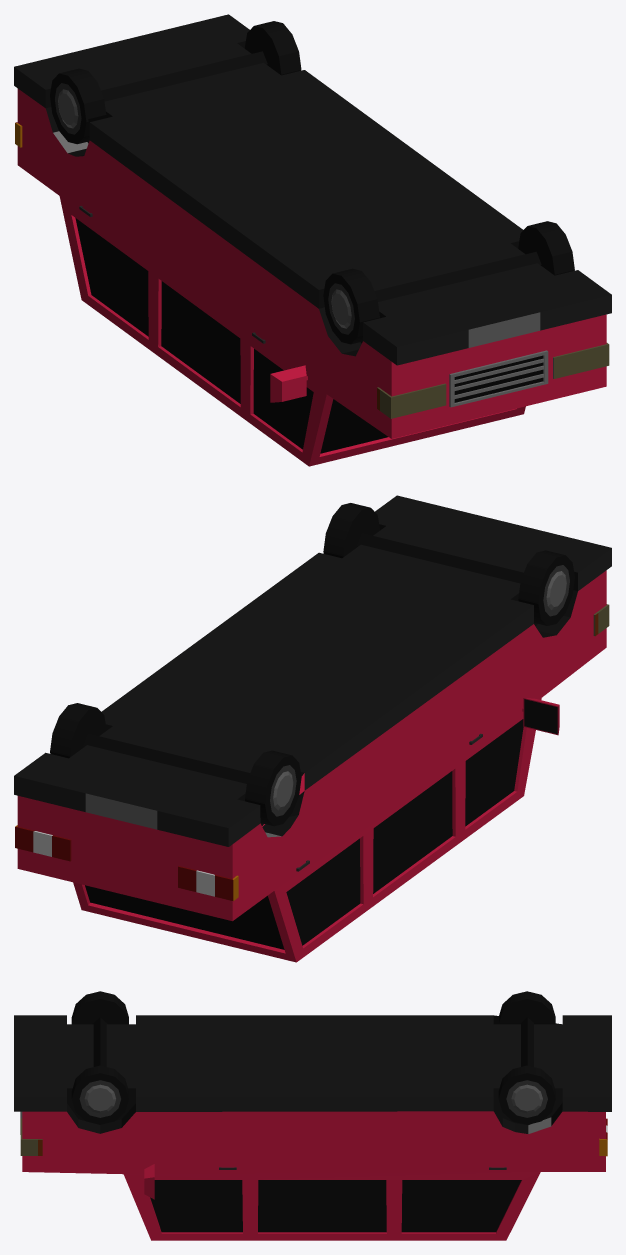
The model's file is car.FBX.
3 renders of one model, top to bottom at view 1: azimuth 30°, elevation 25°; view 2: azimuth 150°, elevation 25°; view 3: azimuth 270°, elevation 25°, orthographic. The views are drawn at different scales.
Parts seen in each view (by area): view 1: car; view 2: car; view 3: car.
Boxes of the visible parts, bbox=[...] form: car: bbox=[14, 14, 611, 466]; car: bbox=[14, 495, 611, 962]; car: bbox=[14, 991, 611, 1240].
Size of the model in its own units: 3.31 by 2.34 by 7.57.
